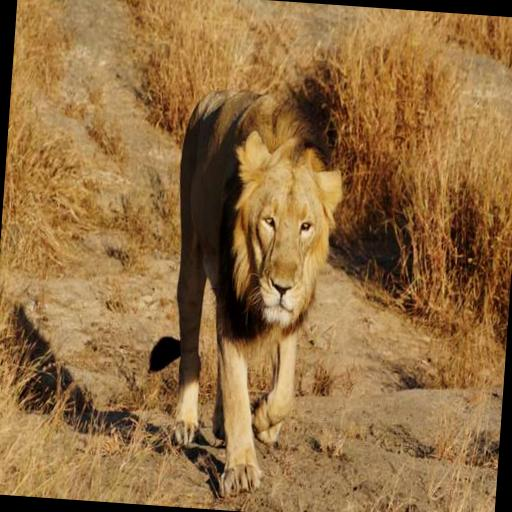lions: (119, 56, 409, 504)
